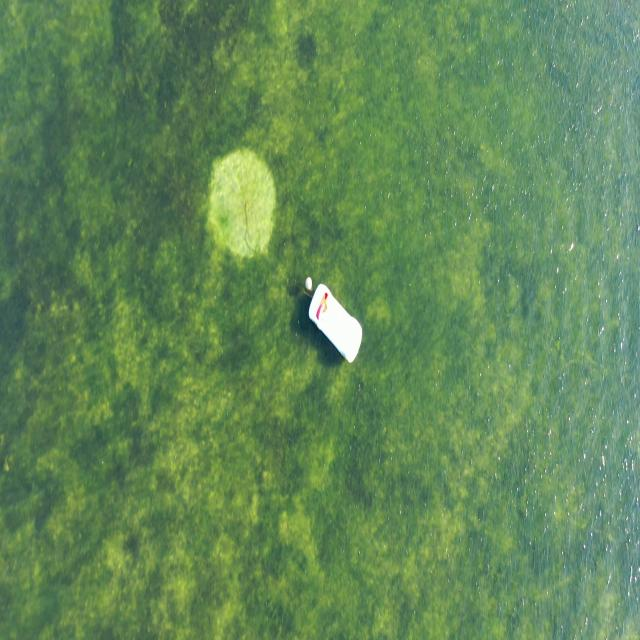boat: (308, 282, 363, 369)
bouy: (302, 275, 314, 295)
